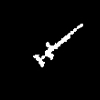double_crochet: (33, 24, 82, 66)
